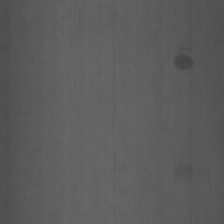oil_spot: (171, 49, 199, 73)
